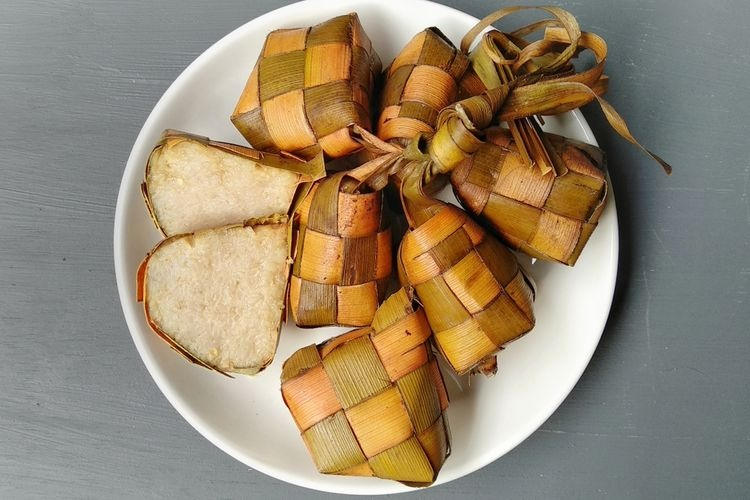ketupat: (278, 285, 452, 485), (230, 12, 370, 161)
